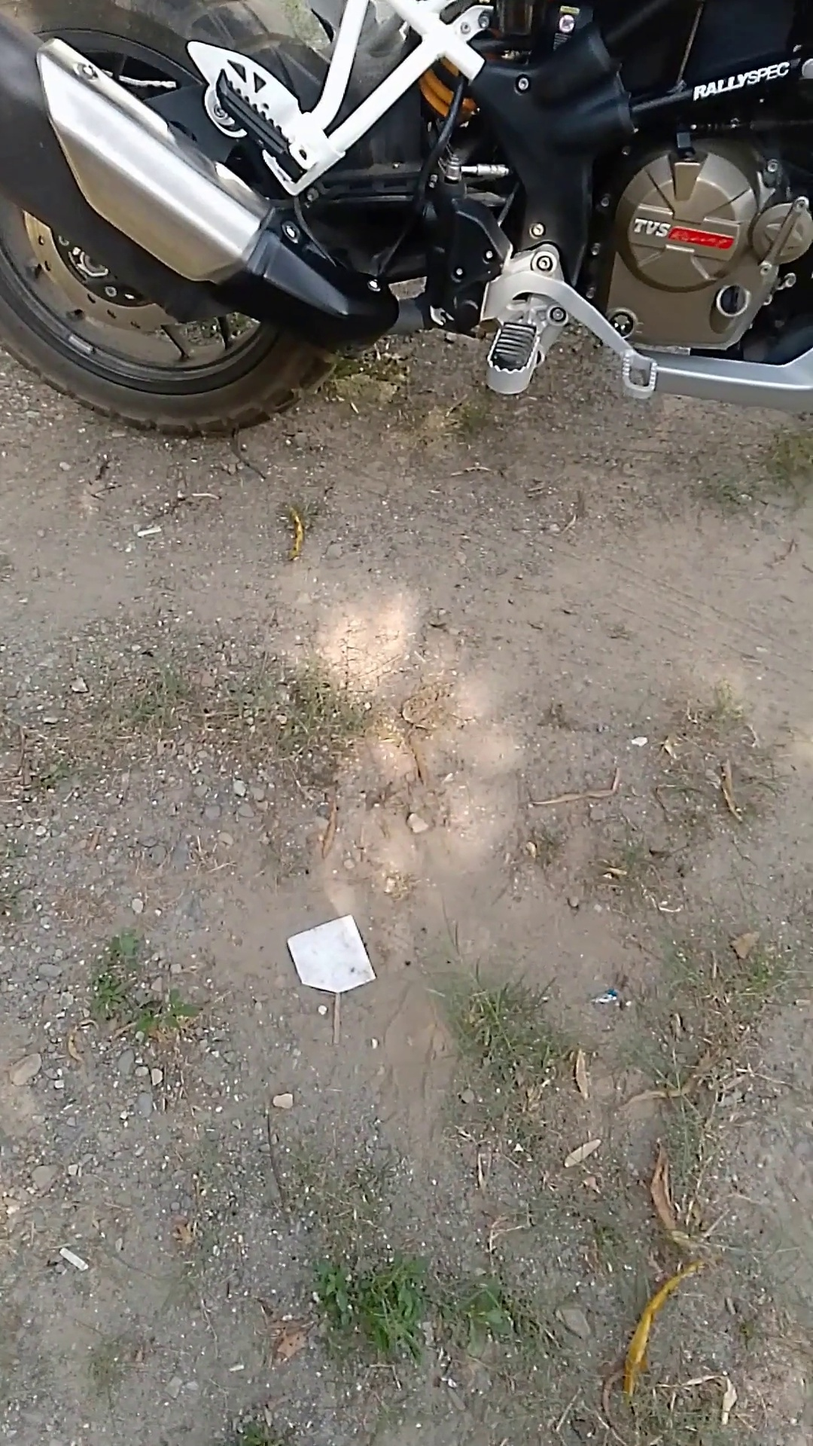oil_cap: (590, 173, 804, 402), (711, 272, 756, 327)
oil_marker: (598, 301, 658, 351)
